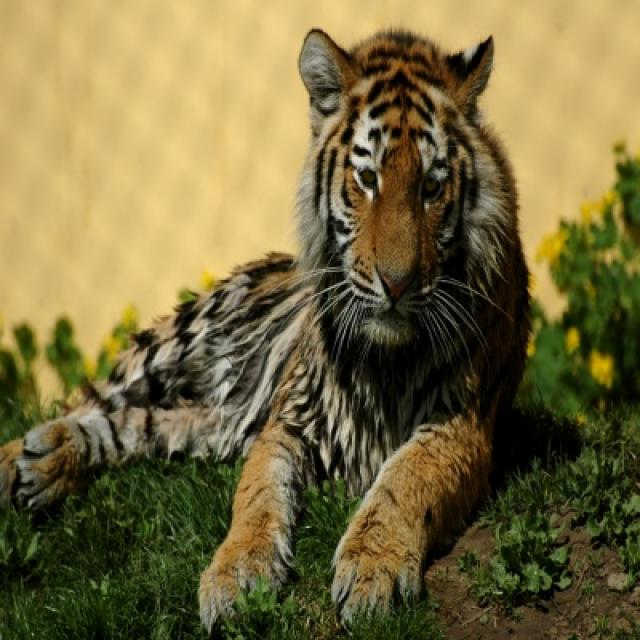Tiger: (4, 28, 534, 628)
